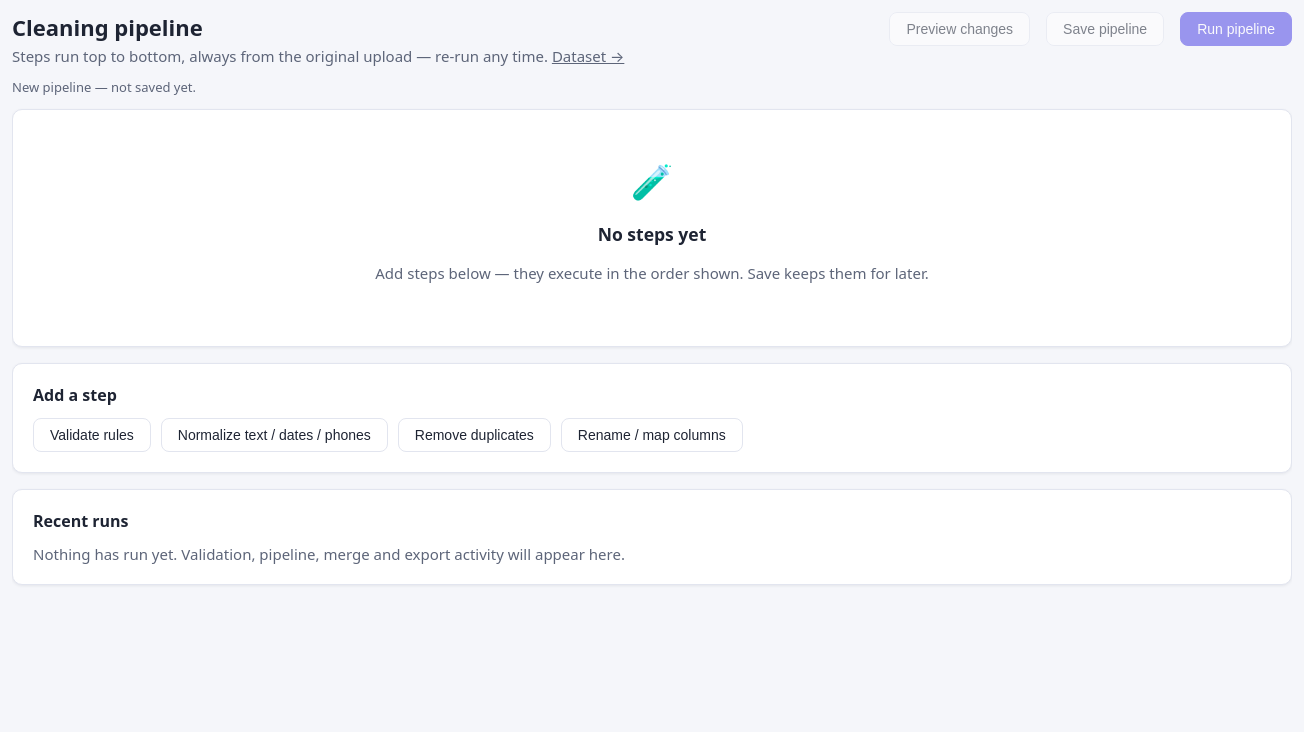
PipelinePage (editor) › removes a step
The width and height of the screenshot is (1304, 732).
expect the element with test id "pipeline-empty" is shown: met, box [12,109,1292,347]
Click the button "Remove duplicates": click(474, 435) [398,418,551,452]
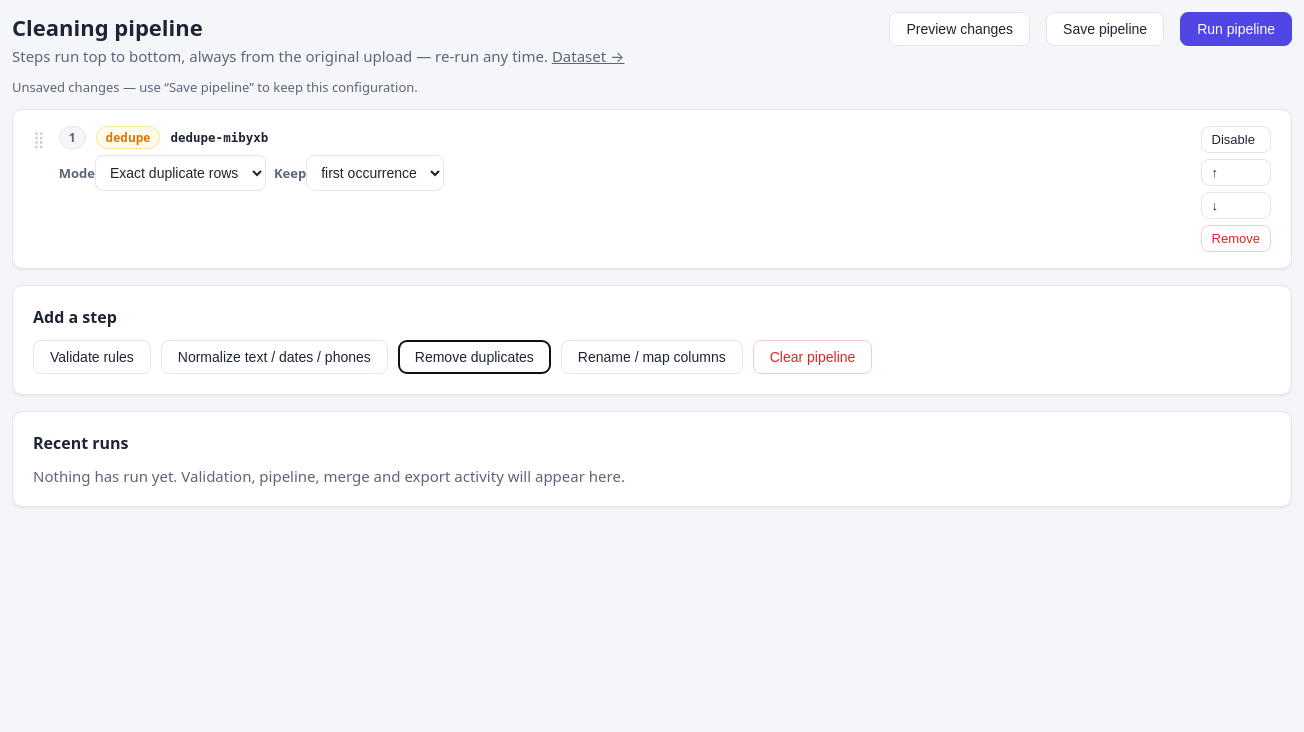
Click the button "Remove": click(1236, 238) [1201,225,1271,252]
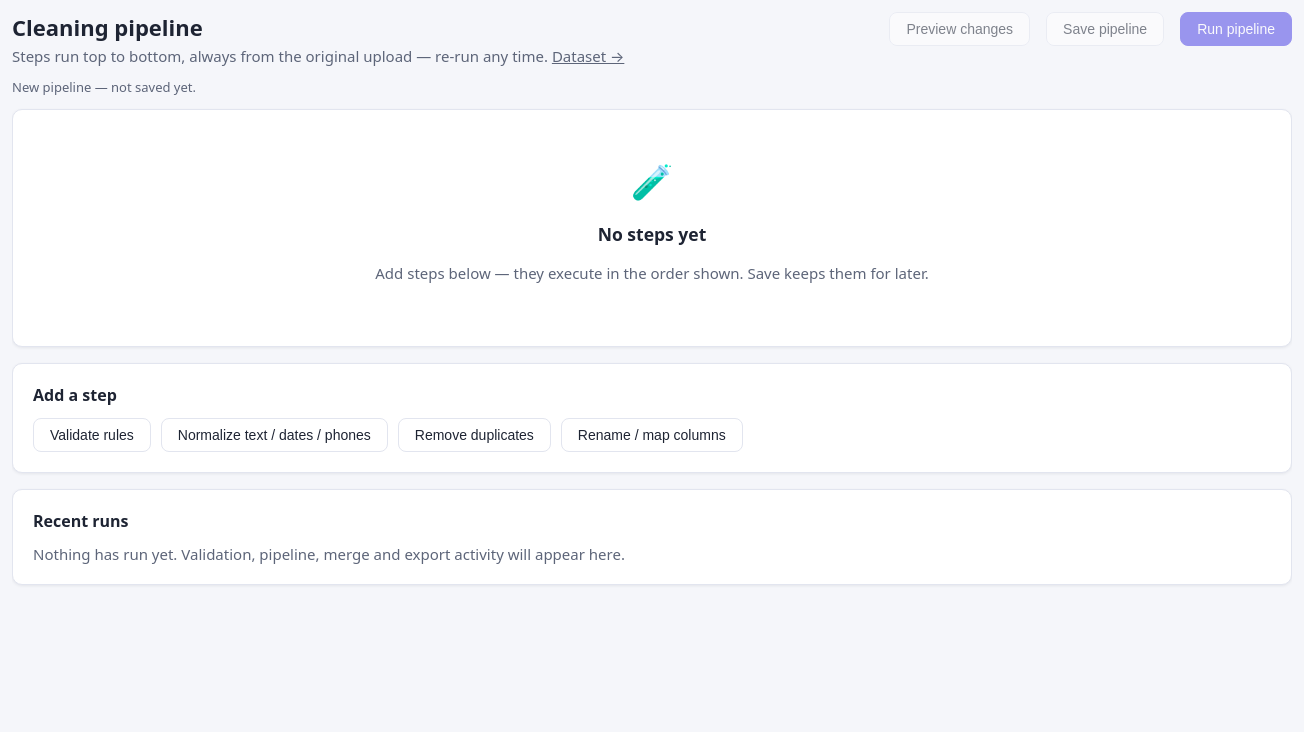
expect the heading "No steps yet" is shown: met, box [598,222,706,246]
